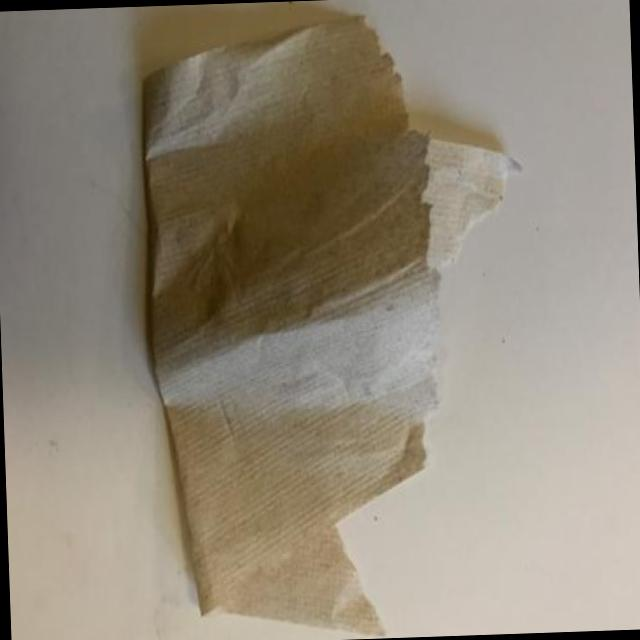giay: (139, 14, 511, 635)
